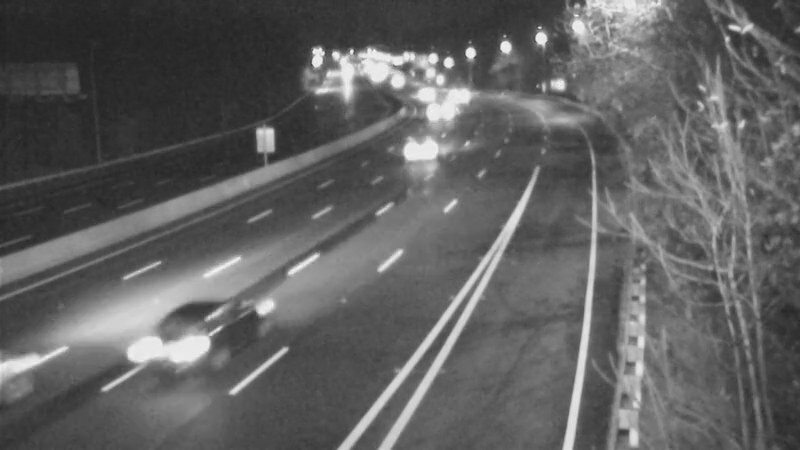vehicle: (116, 299, 226, 409), (373, 53, 423, 103), (396, 69, 446, 119), (430, 67, 480, 117), (412, 82, 462, 132), (400, 111, 450, 161)
